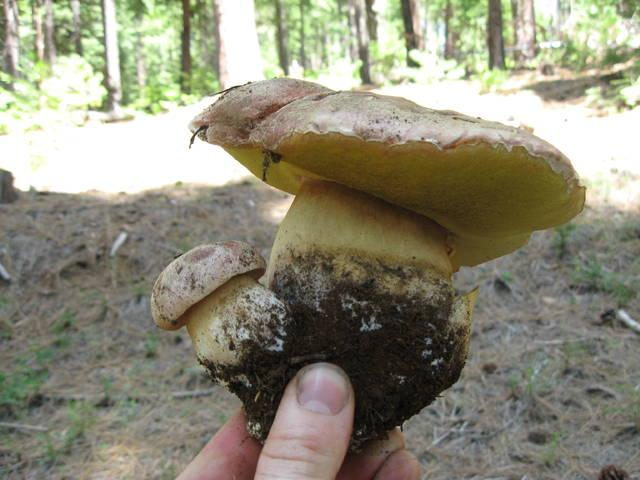Edible Mushroom: (149, 75, 586, 456)
